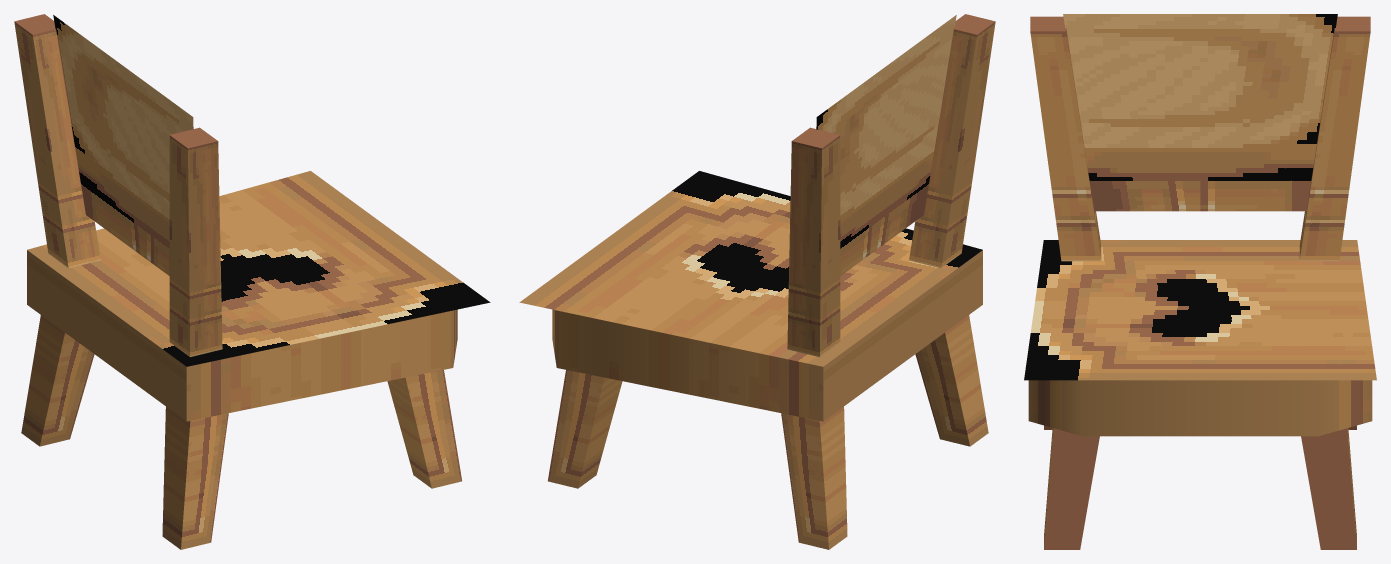
The picture shows the model from 3 angles, left to right: view 1: azimuth 30°, elevation 25°; view 2: azimuth 150°, elevation 25°; view 3: azimuth 270°, elevation 25°; orthographic projection.
Parts seen in each view (by area): view 1: 3564kg_05_isu; view 2: 3564kg_05_isu; view 3: 3564kg_05_isu.
Part boxes in pixels (x1,y1,x2,y2): 3564kg_05_isu: (14, 14, 490, 549); 3564kg_05_isu: (519, 14, 995, 549); 3564kg_05_isu: (1024, 14, 1376, 549).
Size of the model in its own units: 0.7585 by 1.02 by 0.7896.
Materials: 1 (1 with a texture image).
